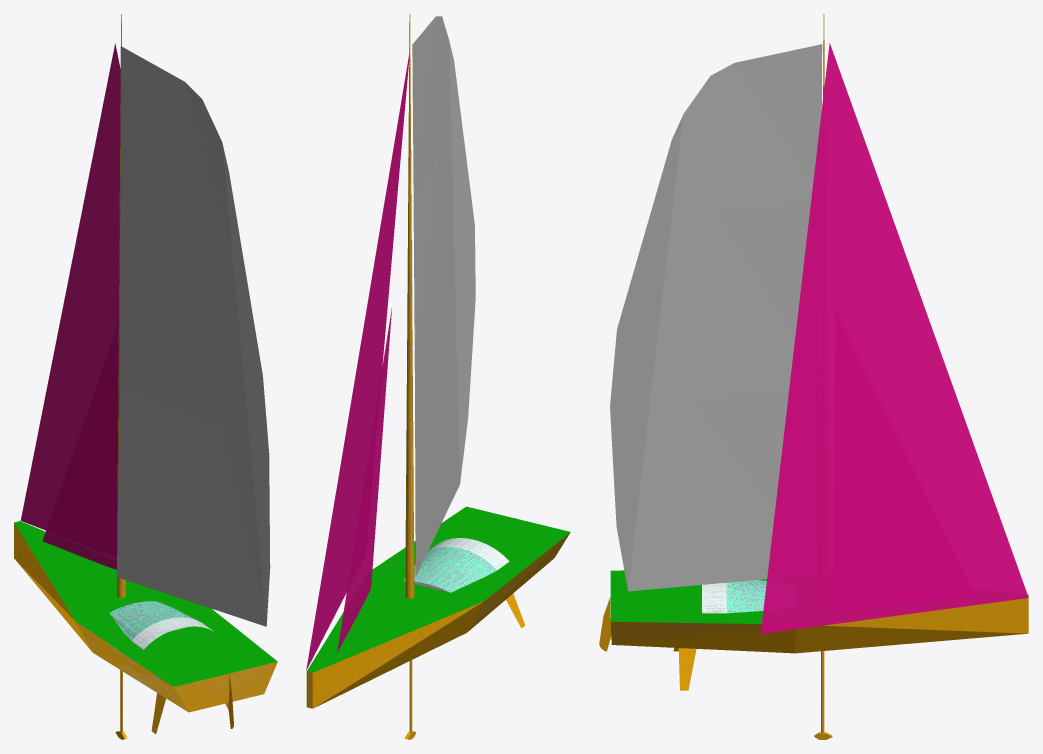
File: genois_babord_monocoque.dae
3 views of the same model, side by side, from view 1: azimuth 30°, elevation 25°; view 2: azimuth 150°, elevation 25°; view 3: azimuth 270°, elevation 25° (orthographic).
Parts seen in each view (by area): view 1: SketchUp (×9); view 2: SketchUp (×9); view 3: SketchUp (×7).
Boxes of the visible parts, left/top/right/bottom form: SketchUp (×9): left=14, top=14, right=277, bottom=712; SketchUp (×9): left=306, top=14, right=570, bottom=708; SketchUp (×7): left=610, top=43, right=1028, bottom=653.
Size of the model in its own units: 26625 by 72816 by 135626.
